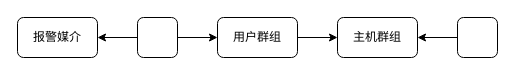
Some shapes in this 515 by 75 pixel diagram are drawn without their labels. Each missing label, with the centre of its shape:
主机: point (477, 37)
用户: point (157, 37)
